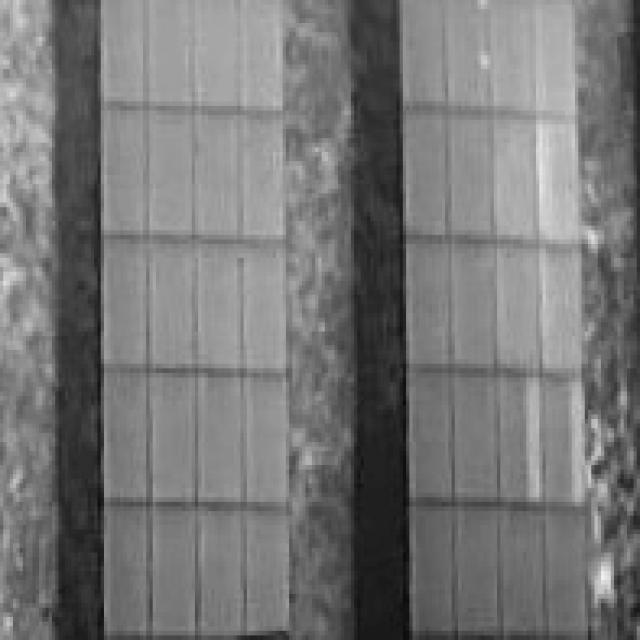Line Fault: (523, 374, 546, 511)
Panel: (100, 2, 291, 632), (396, 5, 584, 635), (567, 380, 587, 501)
